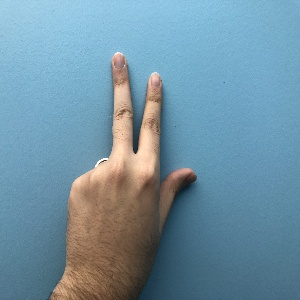hand: (64, 53, 197, 271)
